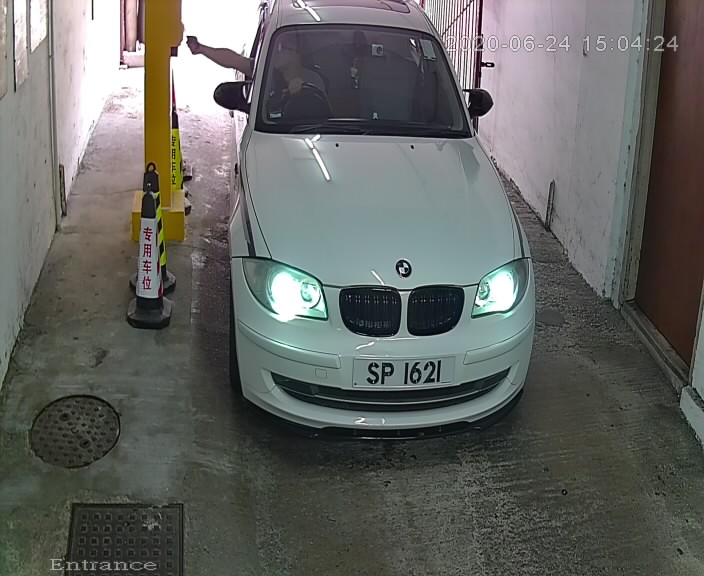Car: (198, 1, 557, 451)
License Plate: (346, 352, 463, 393)
